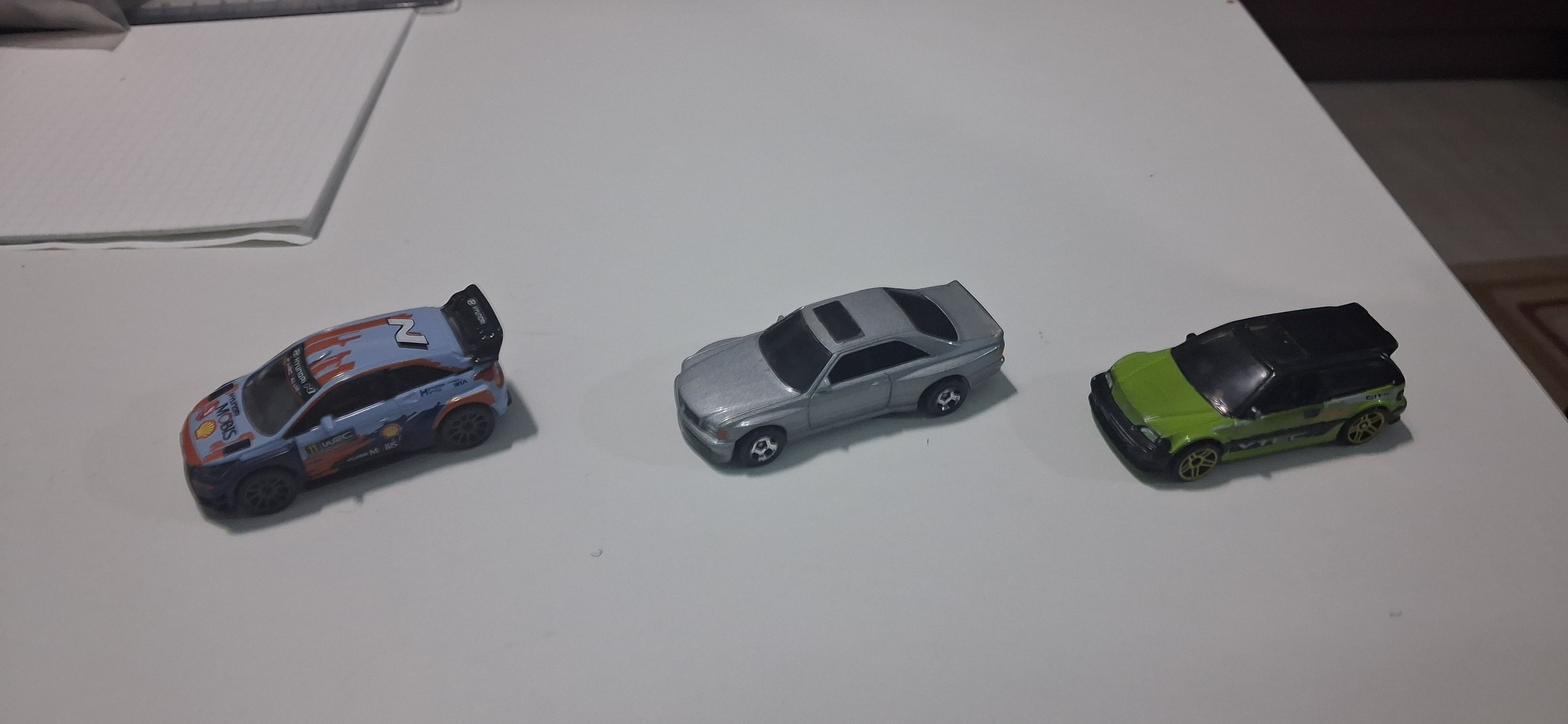Honda_Civic: (1051, 276, 1436, 528)
Hyundai_I20_WRC: (146, 252, 535, 535)
Mercedes_Benz_560_SEC_AMG: (618, 266, 1027, 510)
